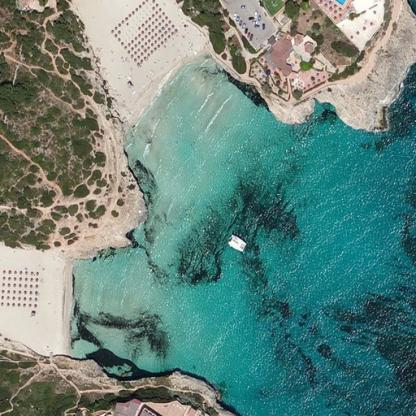ship: (222, 224, 250, 255)
